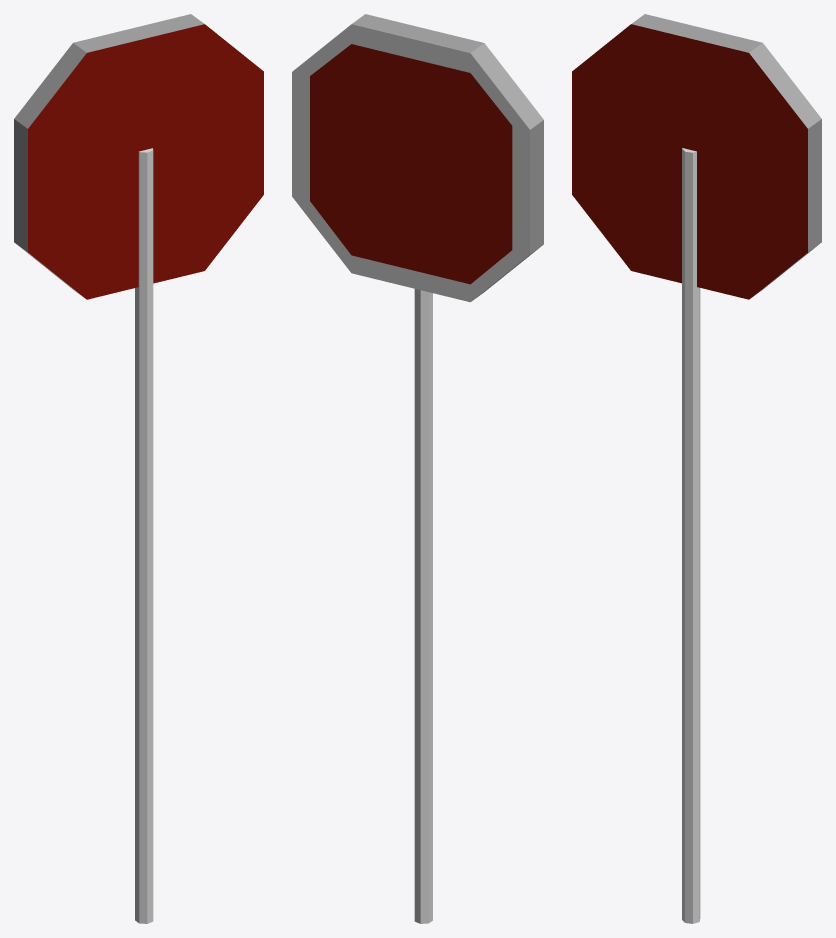
The model's file is Stop_Sign.fbx.
The picture shows the model from 3 angles, left to right: view 1: azimuth 30°, elevation 25°; view 2: azimuth 150°, elevation 25°; view 3: azimuth 330°, elevation 25°; orthographic projection.
Parts seen in each view (by area): view 1: Stop_Sign; view 2: Stop_Sign; view 3: Stop_Sign.
Boxes of the visible parts, left/top/right/bottom form: Stop_Sign: left=14, top=14, right=263, bottom=923; Stop_Sign: left=292, top=14, right=543, bottom=923; Stop_Sign: left=572, top=14, right=821, bottom=923.
Size of the model in its own units: 8.37 by 29.92 by 1.05.
